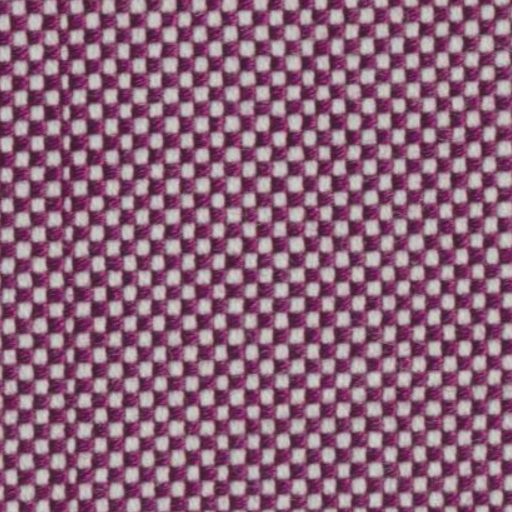TuoSha: (45, 6, 100, 495)
